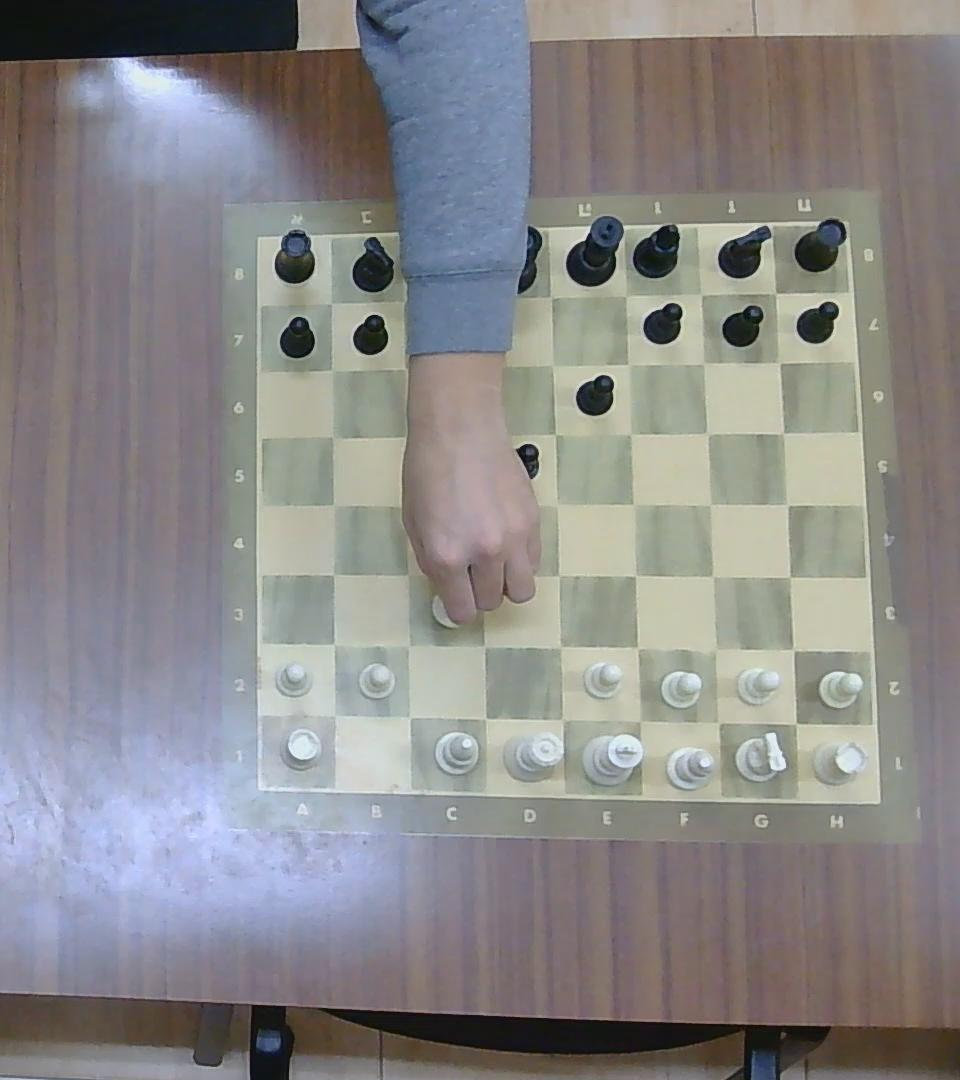xcorner: (777, 705, 811, 739), (701, 705, 734, 738), (623, 702, 656, 735), (620, 631, 653, 664), (543, 629, 575, 663), (546, 701, 578, 735), (469, 701, 500, 733), (319, 699, 350, 731), (468, 284, 499, 316), (465, 350, 497, 381), (468, 630, 499, 661), (392, 630, 423, 661), (774, 561, 805, 592), (698, 634, 730, 664), (393, 701, 423, 732), (698, 561, 728, 592), (776, 634, 807, 664), (318, 629, 349, 659), (620, 560, 650, 590), (543, 560, 573, 590), (536, 282, 566, 311), (465, 557, 495, 586), (619, 488, 648, 517), (772, 488, 801, 517), (393, 559, 422, 588), (469, 491, 498, 520), (387, 287, 416, 316), (611, 280, 639, 309), (318, 559, 346, 588), (615, 419, 644, 447), (695, 490, 724, 518), (543, 488, 571, 517), (318, 490, 346, 518), (693, 419, 721, 447), (316, 288, 345, 315), (317, 421, 345, 448), (614, 350, 642, 377), (317, 354, 345, 381), (770, 418, 798, 445), (538, 351, 566, 377), (390, 353, 417, 379), (389, 490, 414, 518), (473, 421, 498, 449), (688, 280, 714, 306), (392, 424, 419, 449), (690, 350, 716, 375), (762, 279, 788, 304), (541, 421, 566, 446), (767, 350, 791, 374)
